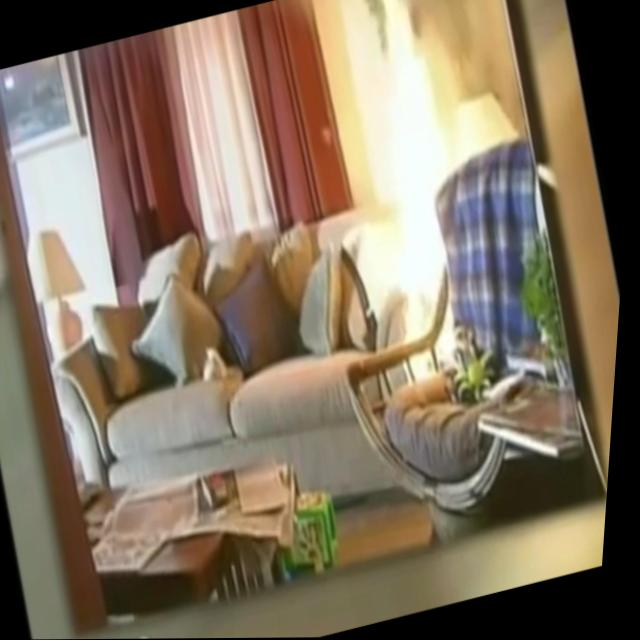fire: (333, 5, 522, 351)
